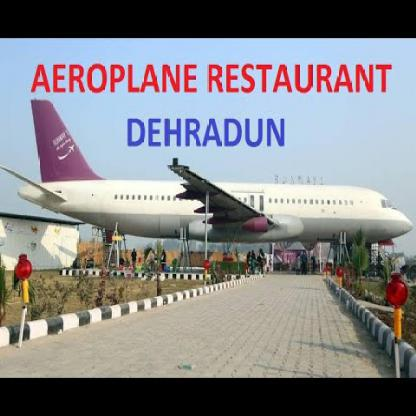CIV_Plane: (2, 96, 414, 262)
